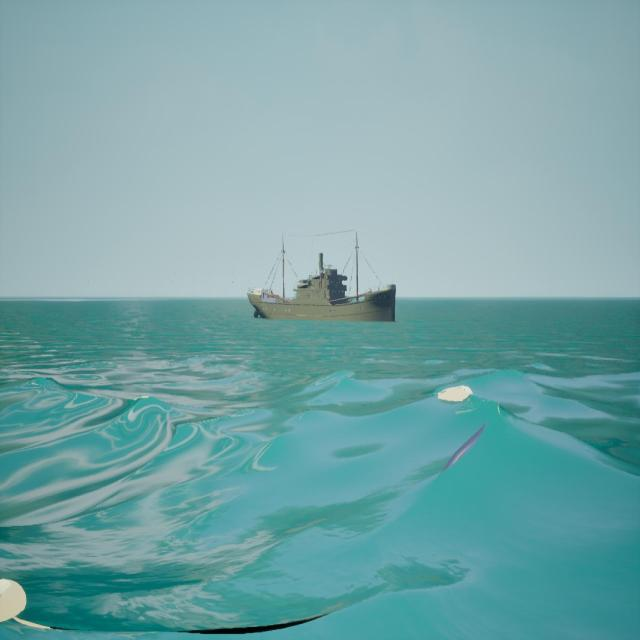fishing ship: (249, 233, 397, 325)
